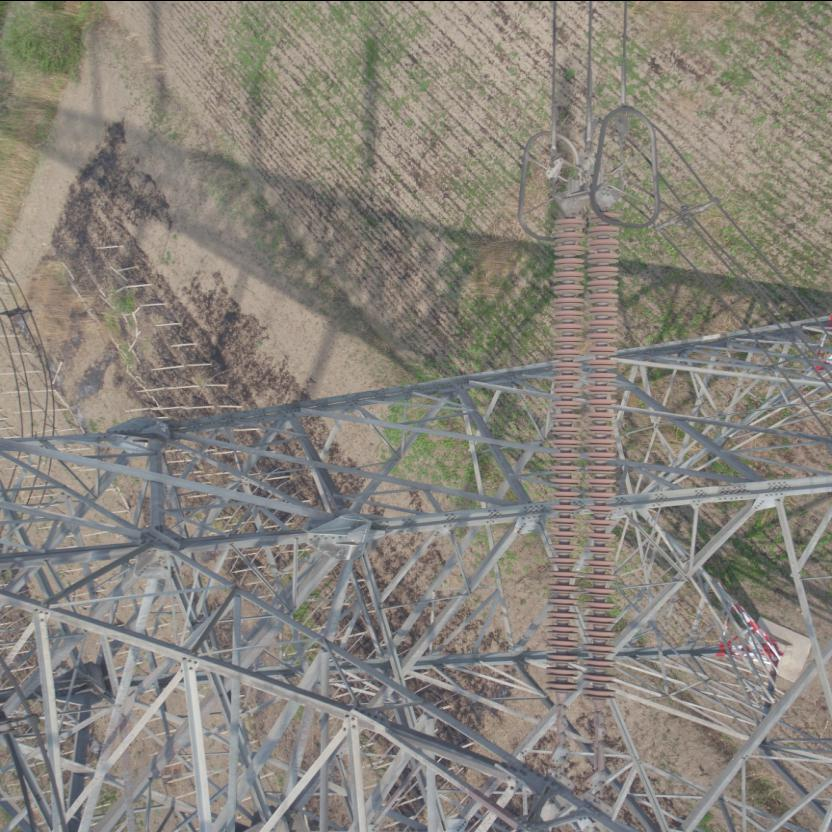insulator: (537, 195, 621, 736)
